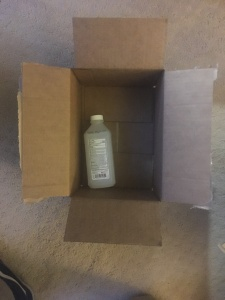innerbox: (71, 70, 164, 202)
outerbox: (21, 17, 213, 247)
product: (82, 113, 117, 189)
